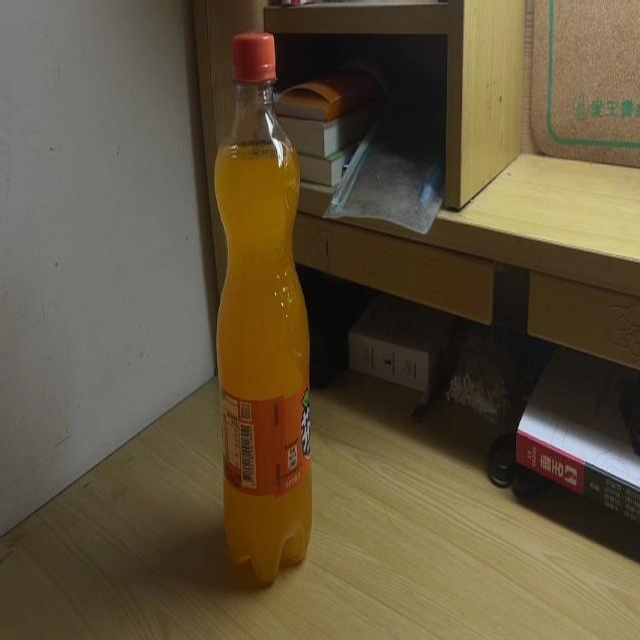Fanta: (213, 33, 315, 580)
